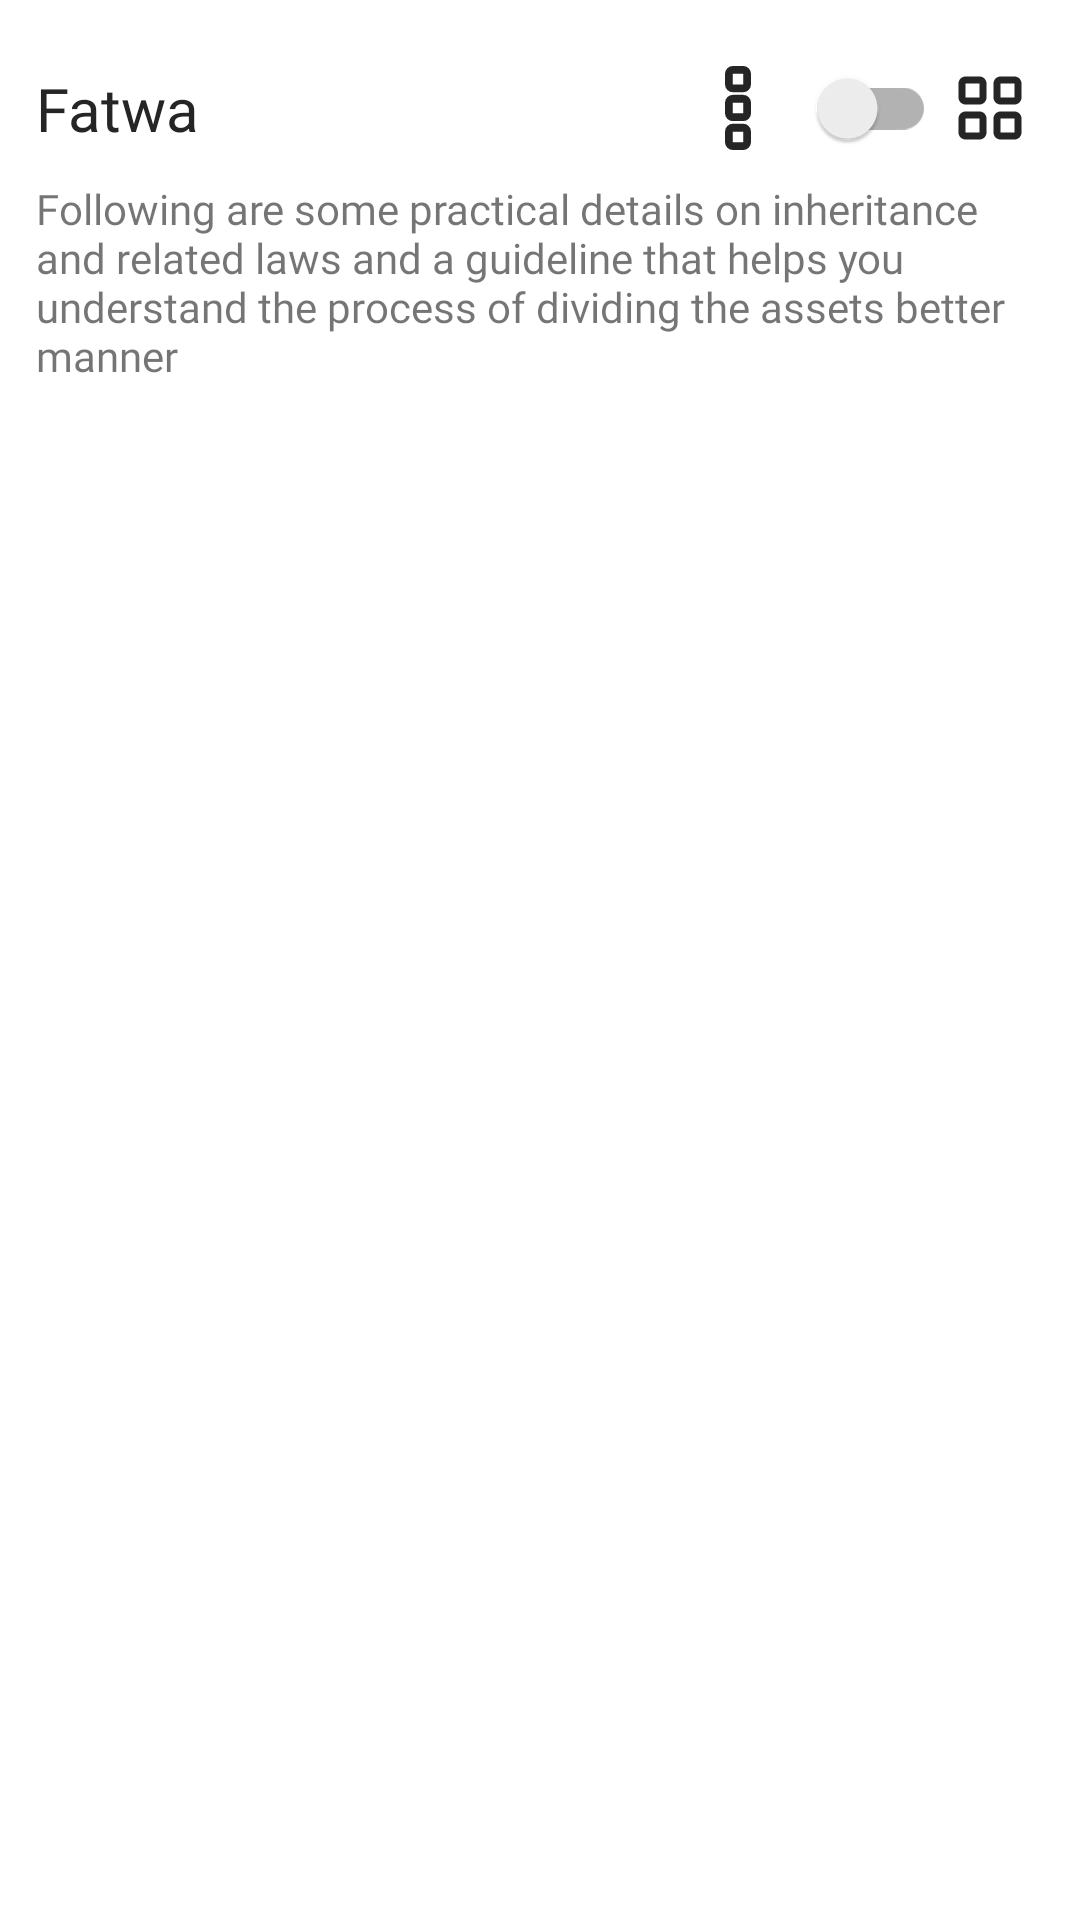

Screen size 1080w x 1920h. Icon name, then its center in pixels as point (x, y):
grid: point (990, 108)
list: point (738, 108)
